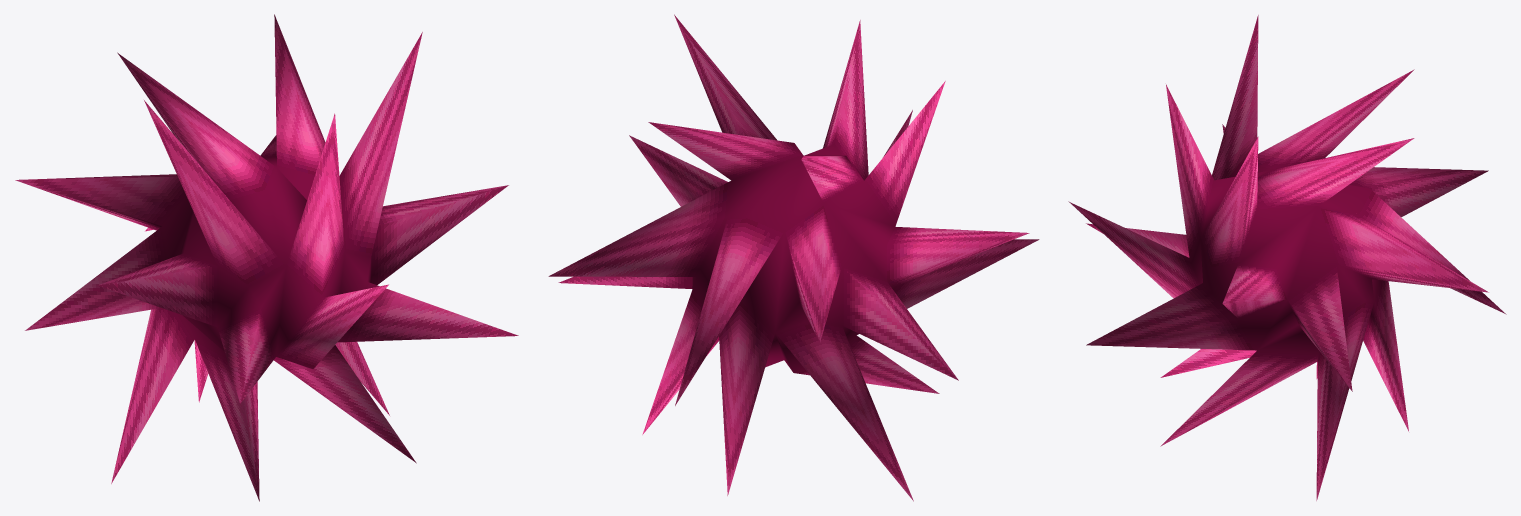
File: chr_phantom_spike.obj
The picture shows the model from 3 angles, left to right: view 1: azimuth 30°, elevation 25°; view 2: azimuth 150°, elevation 25°; view 3: azimuth 270°, elevation 25°; orthographic projection. The views are drawn at different scales.
Visible parts, largest first — view 1: polygon0; view 2: polygon0; view 3: polygon0.
Boxes of the visible parts, x1,y1,x2,y2 form: polygon0: [15, 14, 518, 501]; polygon0: [548, 14, 1039, 501]; polygon0: [1068, 15, 1506, 500].
Size of the model in its own units: 14.33 by 13.6 by 14.76.
Materials: 1 (1 with a texture image).
